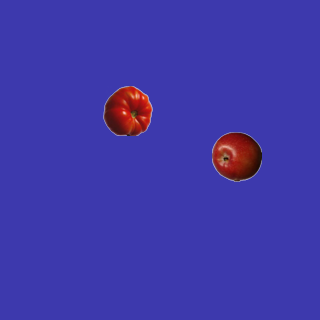Apple Braeburn: (211, 131, 261, 181)
Tomato 3: (102, 85, 152, 135)
